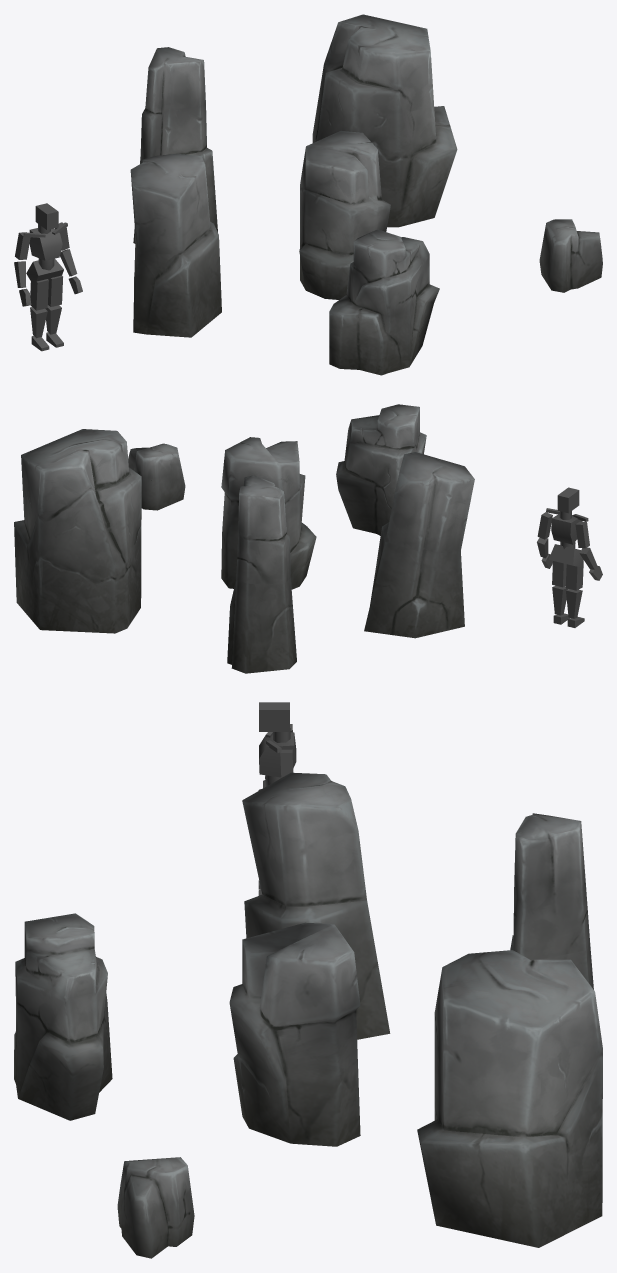
Rendered from rocks_set.glb.
The picture shows the model from 3 angles, top to bottom: view 1: azimuth 30°, elevation 25°; view 2: azimuth 150°, elevation 25°; view 3: azimuth 270°, elevation 25°; orthographic projection. The views are drawn at different scales.
Parts seen in each view (by area): view 1: rock_lp_06_1, rock_lp_09_4, rock_lp_08_3, rock_lp_07_2, rock_lp_10_5, SCALEREF_0, rock_lp_11_6; view 2: rock_lp_06_1, rock_lp_09_4, rock_lp_10_5, rock_lp_08_3, rock_lp_07_2, SCALEREF_0, rock_lp_11_6; view 3: rock_lp_06_1, rock_lp_07_2, rock_lp_09_4, rock_lp_08_3, rock_lp_10_5, rock_lp_11_6, SCALEREF_0.
Part boxes in pixels (box(x1,y1,x2,y2)): rock_lp_06_1: box(312, 14, 457, 227); rock_lp_09_4: box(130, 153, 221, 337); rock_lp_08_3: box(329, 229, 439, 375); rock_lp_07_2: box(299, 130, 390, 299); rock_lp_10_5: box(133, 47, 217, 243); SCALEREF_0: box(14, 203, 82, 351); rock_lp_11_6: box(539, 219, 602, 292); rock_lp_06_1: box(14, 429, 141, 633); rock_lp_09_4: box(364, 452, 474, 638); rock_lp_10_5: box(227, 475, 296, 673); rock_lp_08_3: box(336, 404, 426, 535); rock_lp_07_2: box(221, 437, 316, 589); SCALEREF_0: box(537, 487, 602, 627); rock_lp_11_6: box(128, 443, 185, 510); rock_lp_06_1: box(417, 950, 602, 1247); rock_lp_07_2: box(229, 922, 360, 1146); rock_lp_09_4: box(242, 772, 390, 1039); rock_lp_08_3: box(14, 913, 112, 1120); rock_lp_10_5: box(510, 813, 593, 989); rock_lp_11_6: box(117, 1157, 194, 1258); SCALEREF_0: box(258, 702, 296, 895).
Size of the model in its own units: 8.33 by 2.75 by 5.76.
2 materials, 1 textured.
